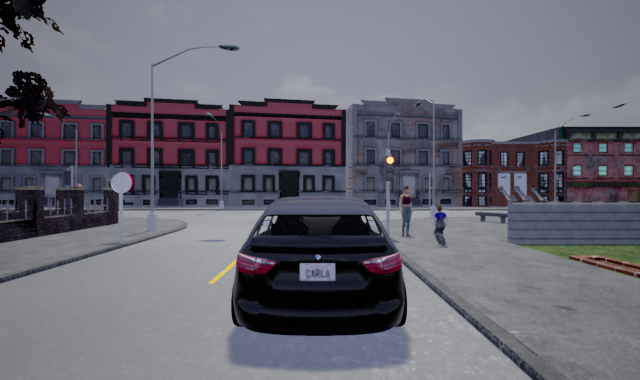pedestrian: (396, 185, 415, 236), (431, 206, 448, 246)
vehicle: (231, 198, 408, 335)
